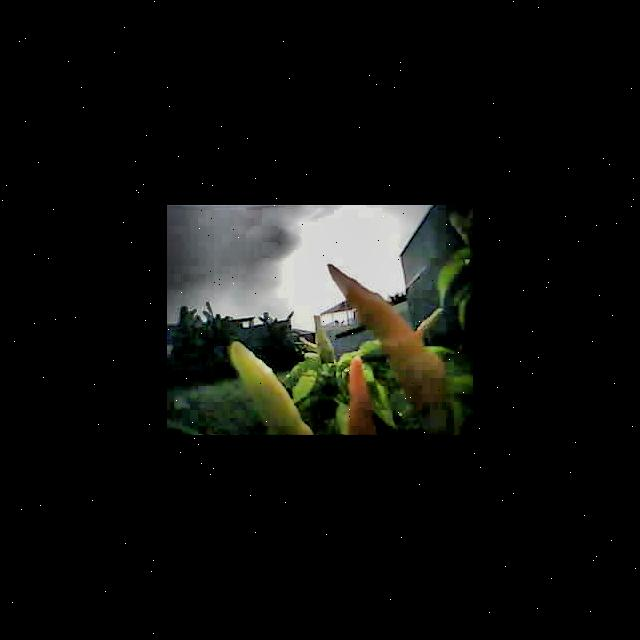Cabai: (335, 281, 458, 412)
